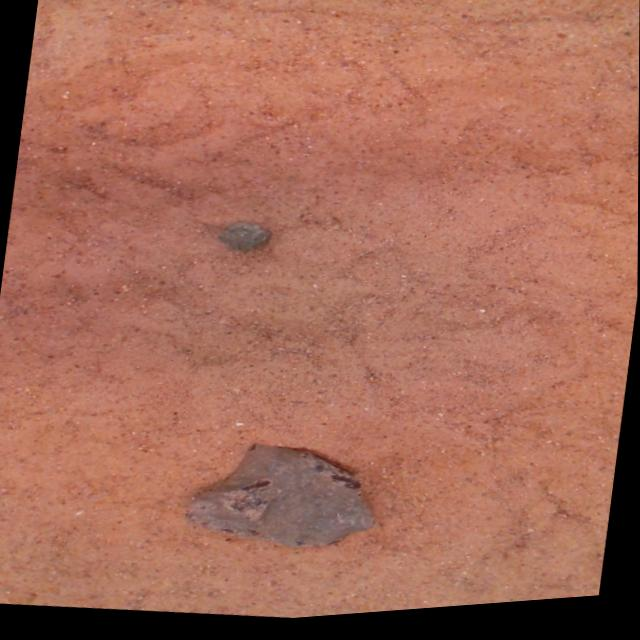rock: (188, 448, 374, 550), (218, 224, 269, 255)
